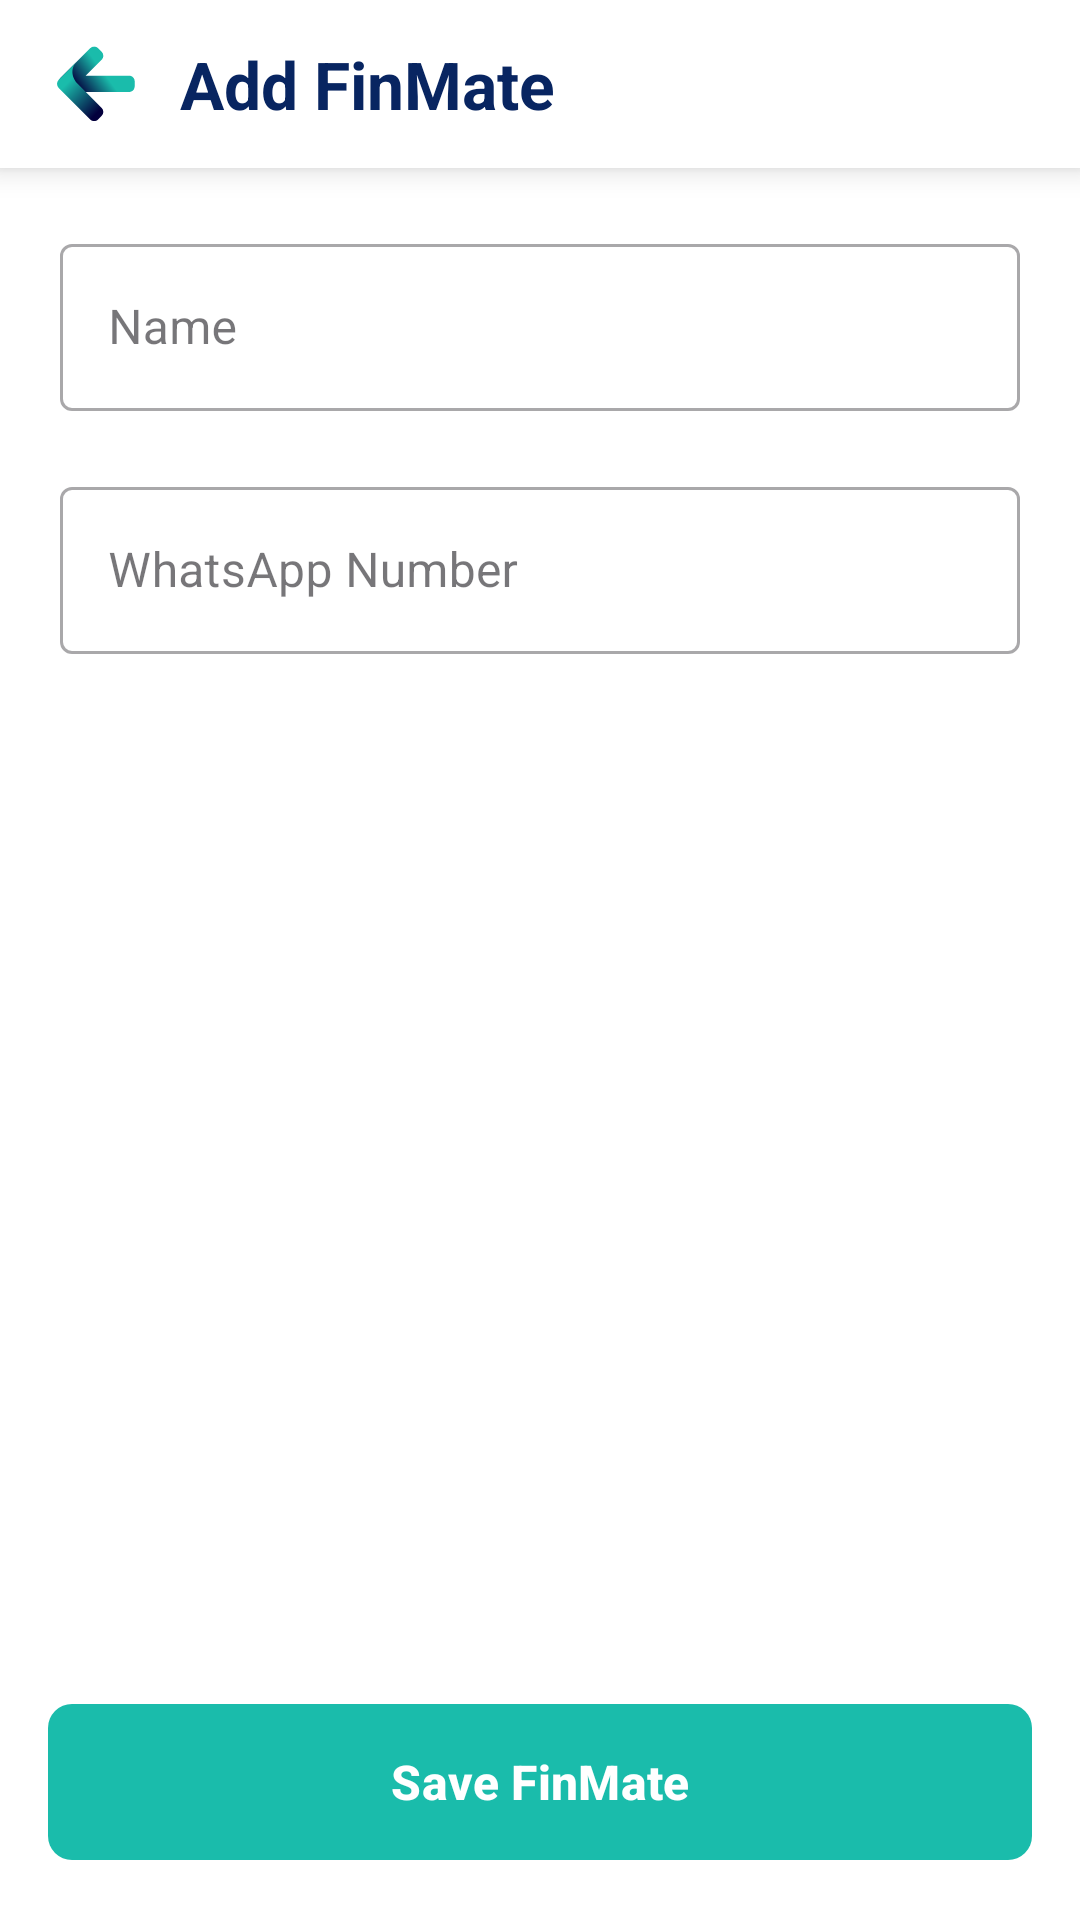

Icon bounding boxes for this 1080px×1920px phone screenshot, format (x1, y1, x2, y2):
back: (57, 46, 135, 121)
